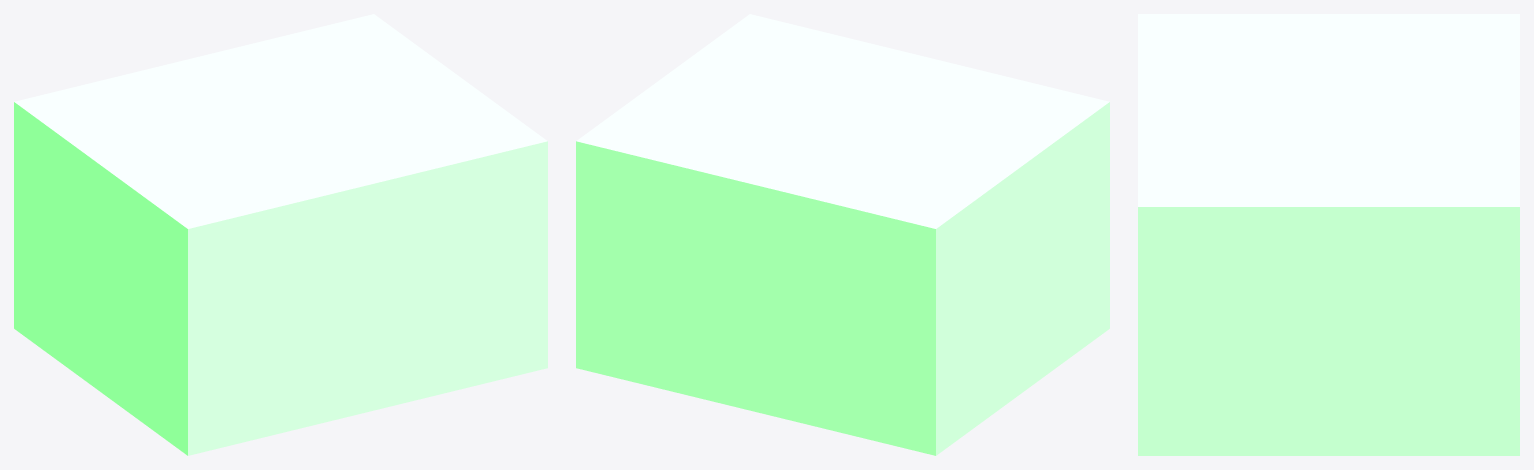
File: Cube_Transparent_Emissive.glb
3 renders of one model, left to right at view 1: azimuth 30°, elevation 25°; view 2: azimuth 150°, elevation 25°; view 3: azimuth 270°, elevation 25°, orthographic. The views are drawn at different scales.
Visible parts, largest first — view 1: Cube_Transparent_Emissive; view 2: Cube_Transparent_Emissive; view 3: Cube_Transparent_Emissive.
Part boxes in pixels (box(x1,y1,x2,y2)): Cube_Transparent_Emissive: box(14, 14, 547, 455); Cube_Transparent_Emissive: box(576, 14, 1109, 455); Cube_Transparent_Emissive: box(1138, 14, 1519, 455).
Bounding box in the file's own units: 0.5638 × 0.3395 × 0.4718.
